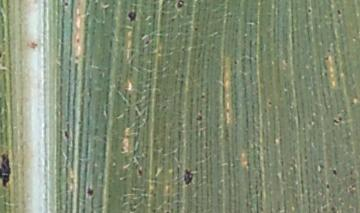tarspot: (1, 149, 12, 188), (182, 167, 193, 187), (126, 9, 138, 23), (85, 184, 95, 197), (62, 130, 72, 140), (332, 118, 341, 127), (175, 1, 185, 9), (329, 205, 338, 213), (136, 167, 143, 177), (195, 113, 202, 123), (266, 99, 274, 107), (331, 168, 338, 176), (144, 39, 151, 47), (318, 162, 325, 170), (321, 55, 330, 61), (337, 115, 344, 122), (336, 8, 342, 16), (322, 70, 328, 78), (327, 11, 333, 19), (63, 1, 70, 7), (325, 182, 331, 189), (306, 7, 312, 14), (199, 93, 205, 100), (192, 26, 199, 32), (232, 59, 238, 66), (197, 108, 203, 115), (169, 16, 176, 22), (303, 154, 309, 161), (1, 50, 3, 61)
